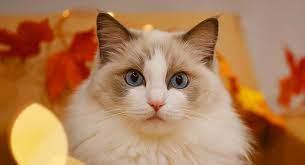ragdoll: (95, 1, 220, 155)
